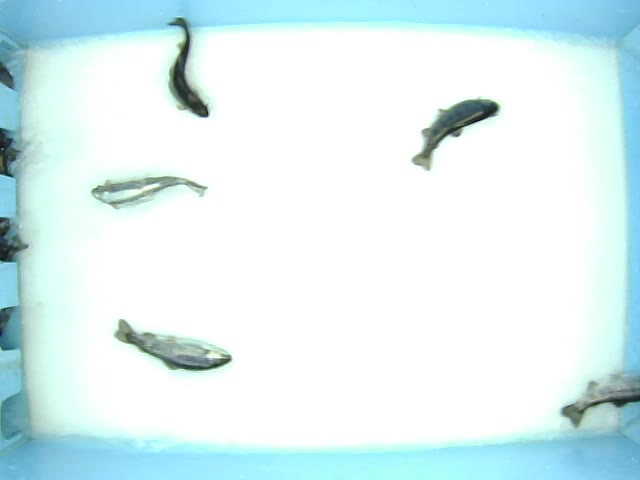fish: (410, 95, 502, 173), (113, 318, 234, 373), (167, 13, 211, 119), (91, 173, 210, 210)
